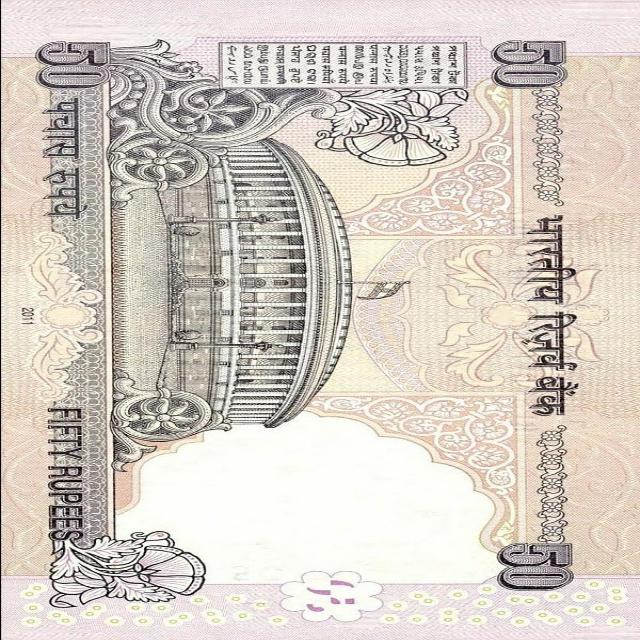50IndianRupees: (17, 5, 632, 639)
